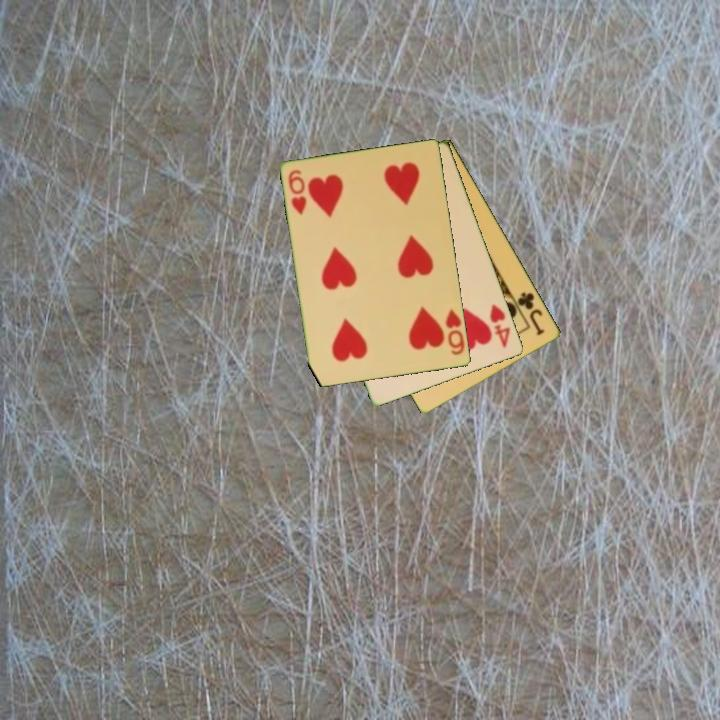4h: (486, 300, 513, 351)
6h: (442, 306, 467, 358), (285, 166, 310, 218)
Jc: (514, 288, 548, 339)
